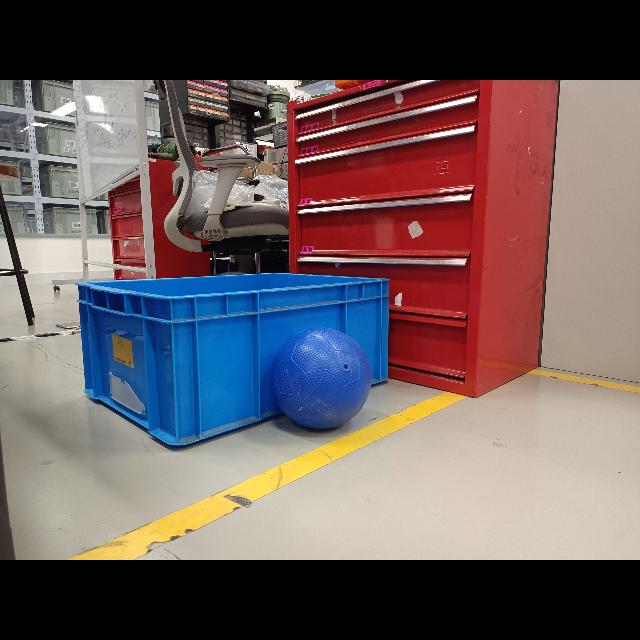B: (270, 327, 372, 431)
